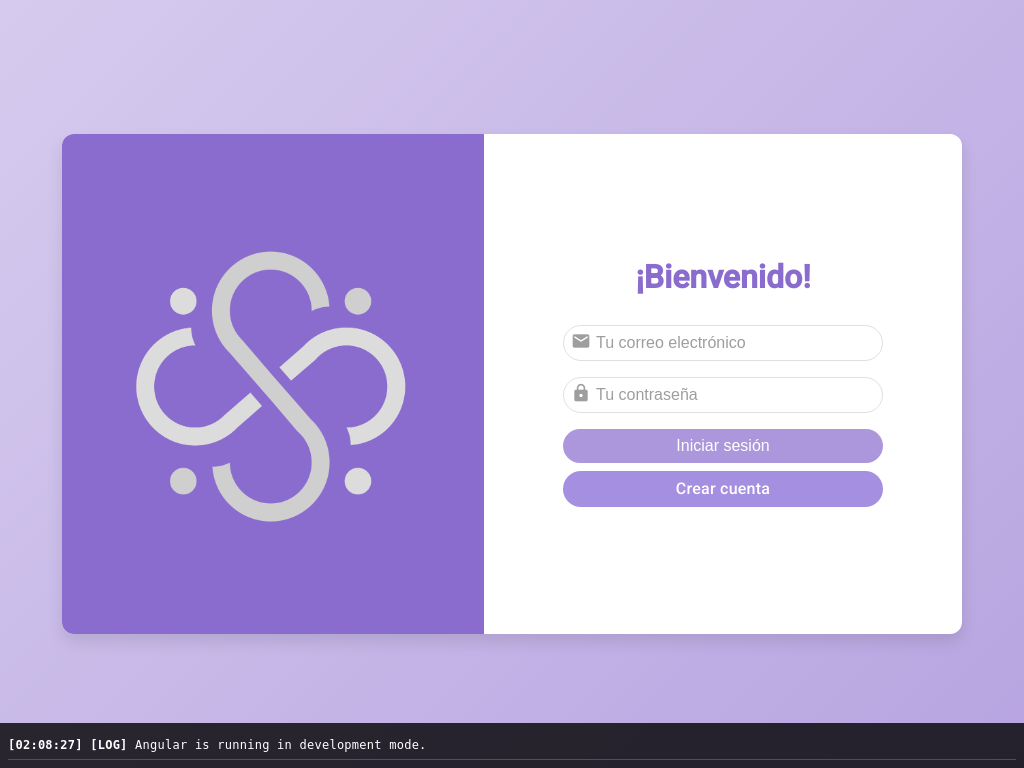
Test: Login Component › should show SweetAlert for pending approval
Note: Fill valid form
Type "valid@email.com" into the field named "email".
click(723, 343); type("valid@email.com")  # box [563,325,883,361]
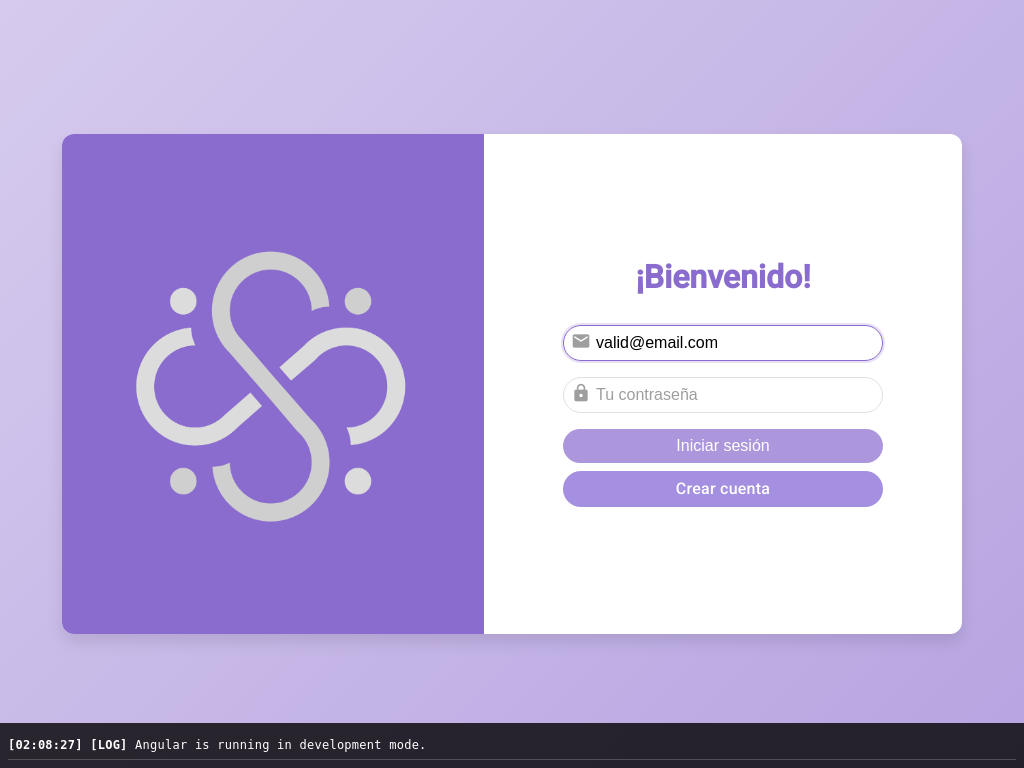
Type "password" into the password field named "password".
click(723, 395); type("password")  # box [563,377,883,413]
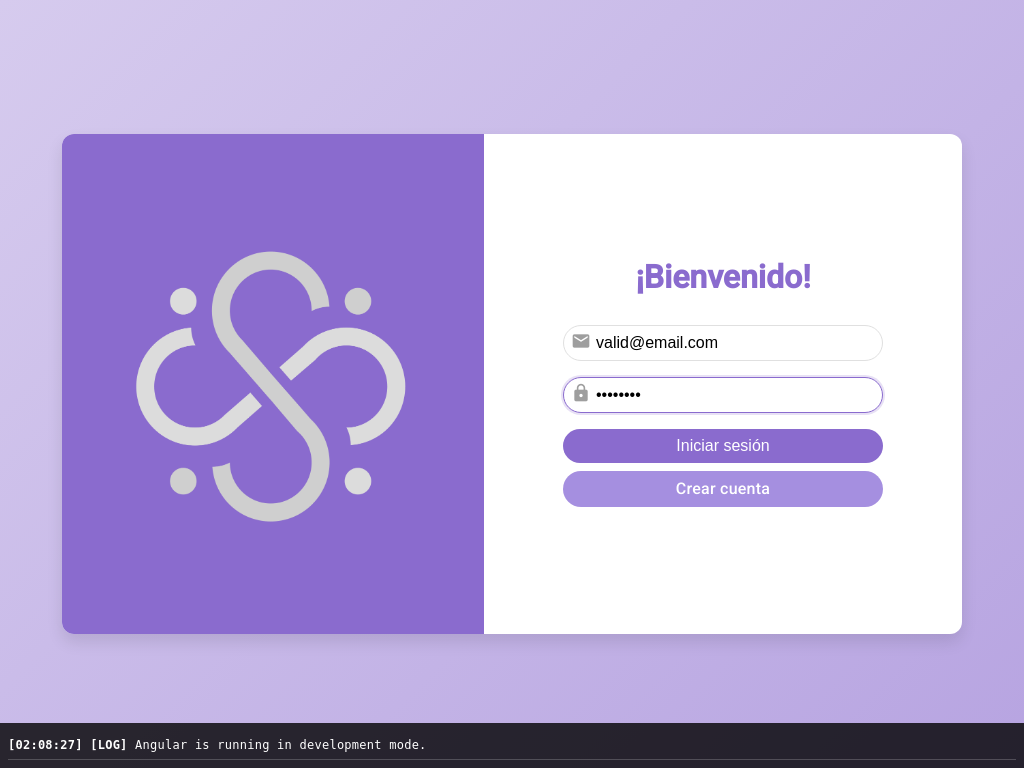
Note: Submit form
Click the button with class "sign-in-btn".
click(723, 446)  # box [563,429,883,463]
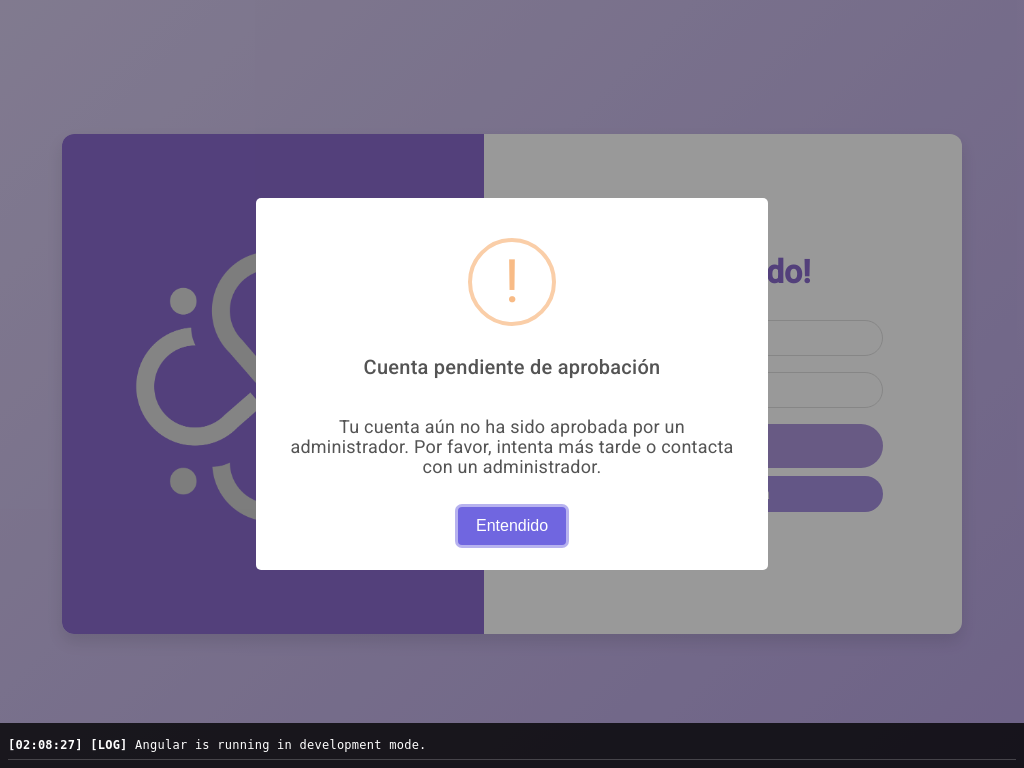
Check: the dialog with class "swal2-popup" is shown, box [256,198,768,571]
Check: the heading with class "swal2-title" reads "Cuenta pendiente de aprobación", box [364,355,661,379]
Check: the button with class "swal2-confirm" reads "Entendido", box [458,508,565,546]
